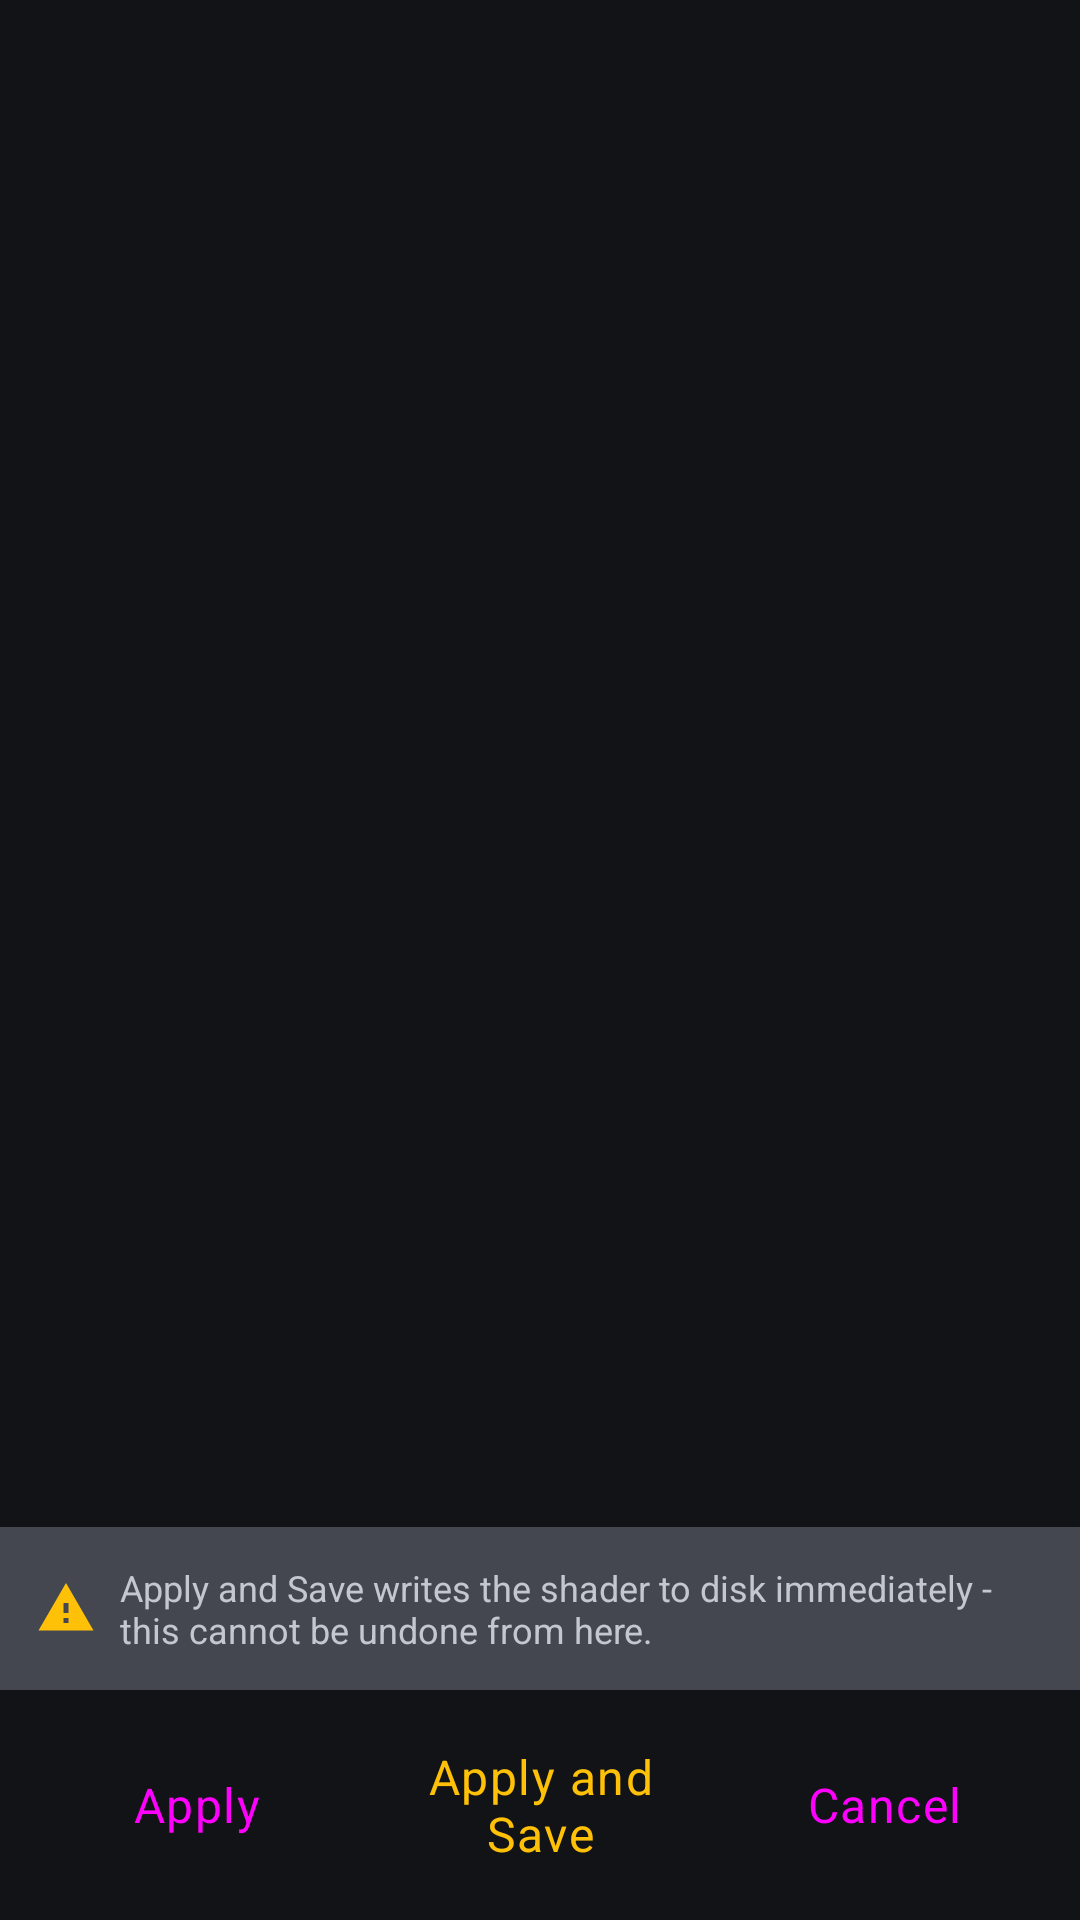

Point at icon controls on the screen. Image size 1080 x 1920, points as point (x, y).
warning: point (66, 1607)
